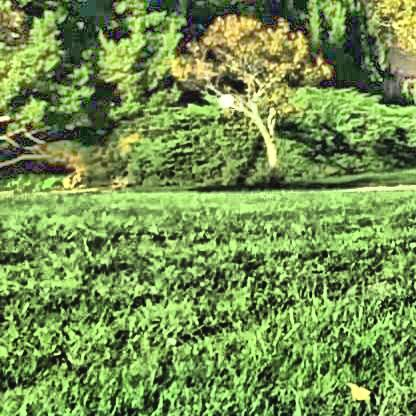golfball: (214, 90, 231, 107)
